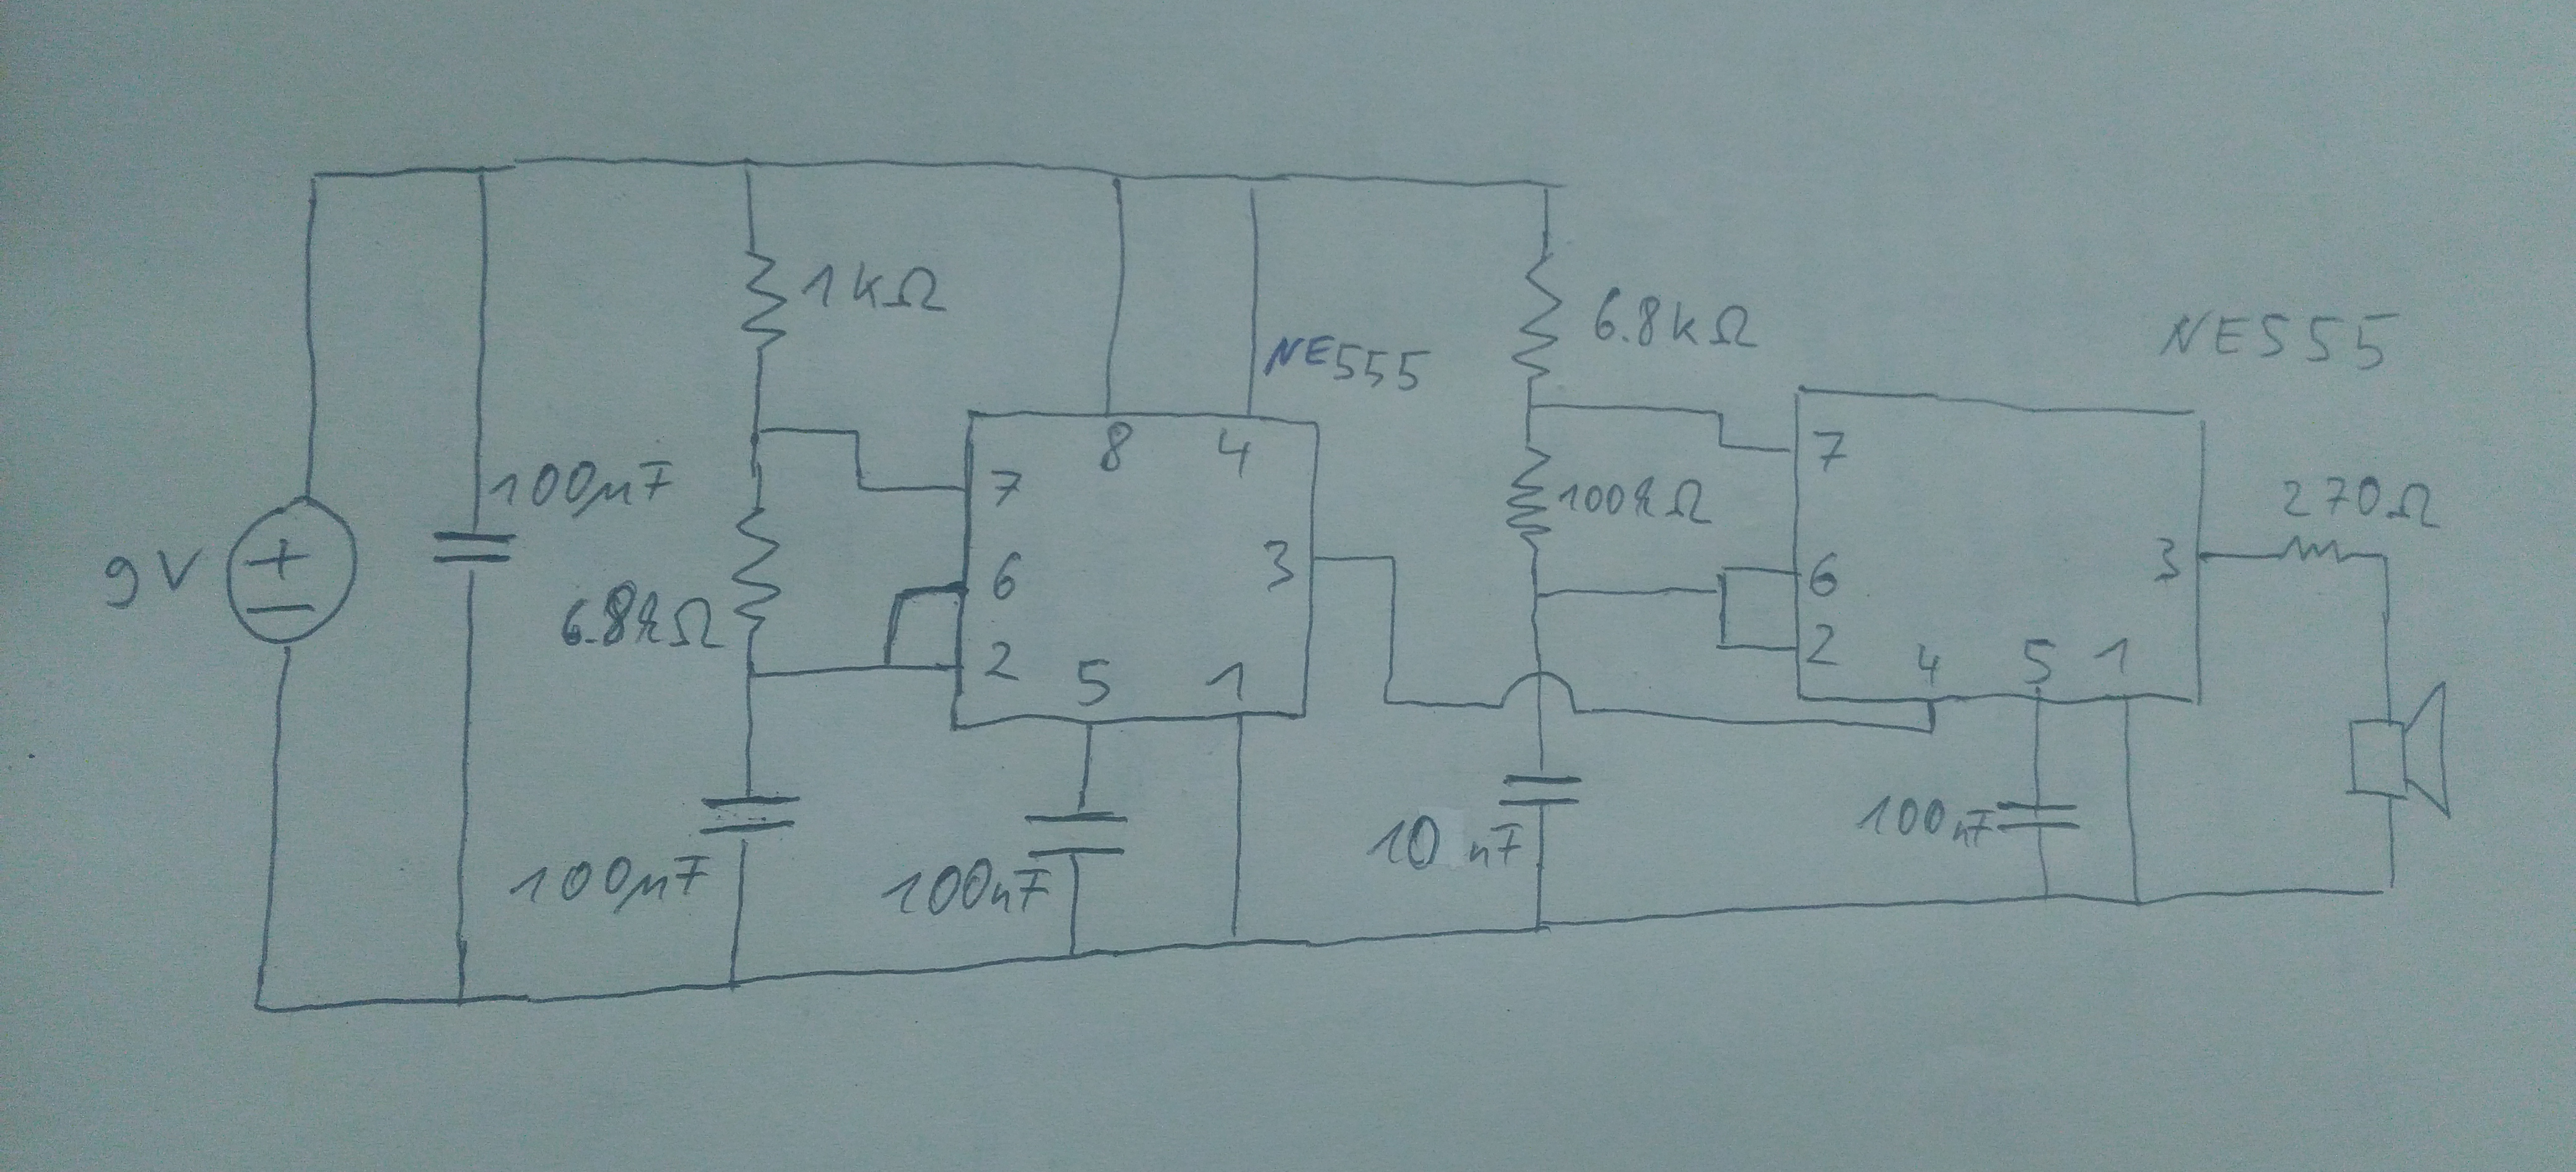capacitor.unpolarized: (1020, 810, 1132, 860), (697, 792, 803, 838), (1495, 769, 1585, 810), (427, 528, 519, 565), (1991, 797, 2085, 832)
crossover: (1497, 667, 1584, 720)
integrated_cricuit.ne555: (1786, 383, 2211, 708), (945, 406, 1326, 730)
junction: (429, 978, 486, 1032), (235, 983, 292, 1029), (1529, 169, 1571, 207), (2367, 873, 2413, 906), (1234, 166, 1270, 205), (463, 156, 503, 191), (302, 163, 338, 199), (728, 146, 766, 181), (741, 419, 775, 454), (1217, 924, 1252, 957), (1055, 942, 1092, 971), (1104, 163, 1135, 194), (715, 968, 749, 996), (1526, 909, 1556, 940), (872, 649, 904, 679), (1515, 393, 1548, 421), (882, 582, 912, 611), (2369, 544, 2402, 570), (736, 662, 767, 689), (844, 422, 872, 450), (1712, 631, 1738, 661), (1705, 401, 1733, 427), (1380, 546, 1406, 574), (1707, 429, 1733, 455), (1375, 687, 1400, 715), (848, 473, 874, 496), (1710, 561, 1738, 582), (2032, 884, 2060, 906), (1525, 584, 1549, 607), (1920, 720, 1945, 743), (1709, 580, 1735, 602), (2126, 891, 2152, 912)
resistor: (1508, 247, 1569, 385), (729, 496, 784, 636), (736, 243, 792, 362), (1503, 439, 1559, 556), (2274, 531, 2354, 567)
speaker: (2344, 676, 2456, 824)
text: (2155, 304, 2400, 375), (506, 851, 715, 919), (488, 459, 674, 523), (560, 580, 728, 651), (1590, 283, 1763, 350), (876, 855, 1055, 916), (1263, 332, 1434, 395), (2279, 472, 2449, 533), (1364, 814, 1525, 871), (800, 255, 948, 317), (1855, 787, 1996, 850), (1556, 473, 1717, 528), (99, 542, 209, 613), (1212, 426, 1255, 483), (1258, 536, 1298, 595), (1096, 419, 1135, 478), (1074, 654, 1112, 712), (1206, 656, 1249, 705), (1809, 427, 1850, 478), (989, 549, 1025, 602), (2021, 636, 2057, 687), (2149, 534, 2185, 584), (2090, 634, 2131, 677), (982, 639, 1022, 684), (1807, 549, 1842, 598), (986, 467, 1023, 511), (1805, 621, 1842, 667), (1914, 643, 1945, 689)
voltage.dc: (220, 493, 361, 649)
